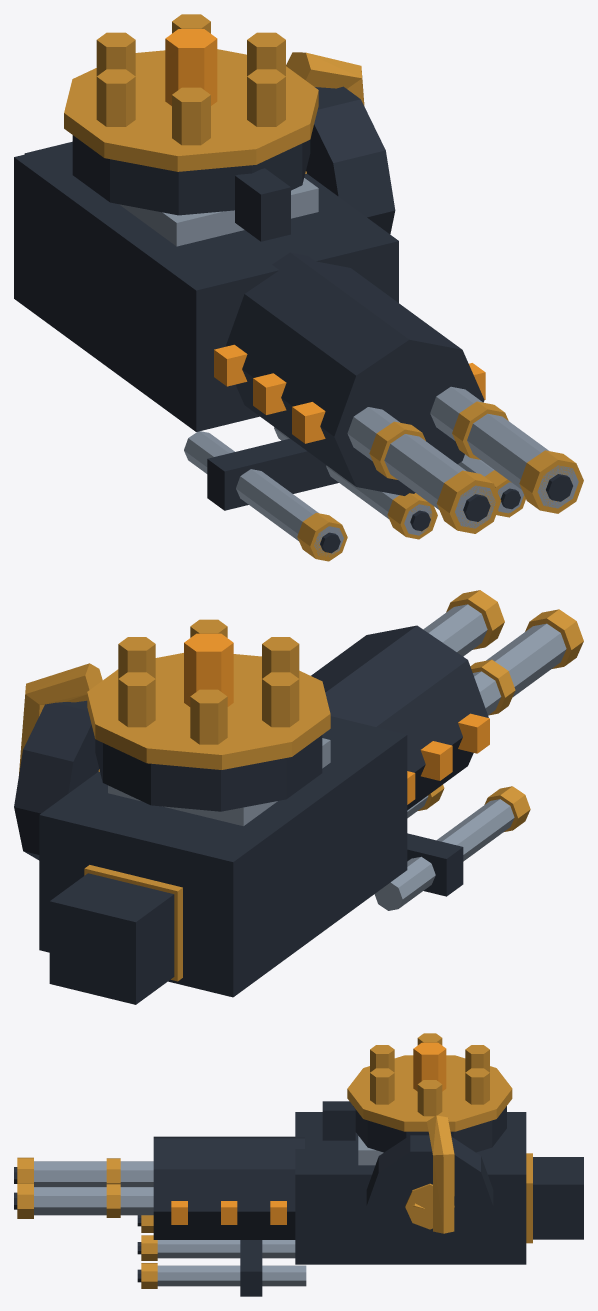
Rendered from GunA1.obj.
3 views of the same model, one above another, from view 1: azimuth 30°, elevation 25°; view 2: azimuth 150°, elevation 25°; view 3: azimuth 270°, elevation 25° (orthographic). The views are drawn at different scales.
Visible parts, largest first — view 1: GunA1; view 2: GunA1; view 3: GunA1.
Part boxes in pixels (x1,y1,x2,y2): GunA1: (14, 14, 583, 561); GunA1: (14, 590, 583, 1004); GunA1: (14, 1033, 583, 1296).
Bounding box in the file's own units: 0.8149 × 0.85 × 2.07.
